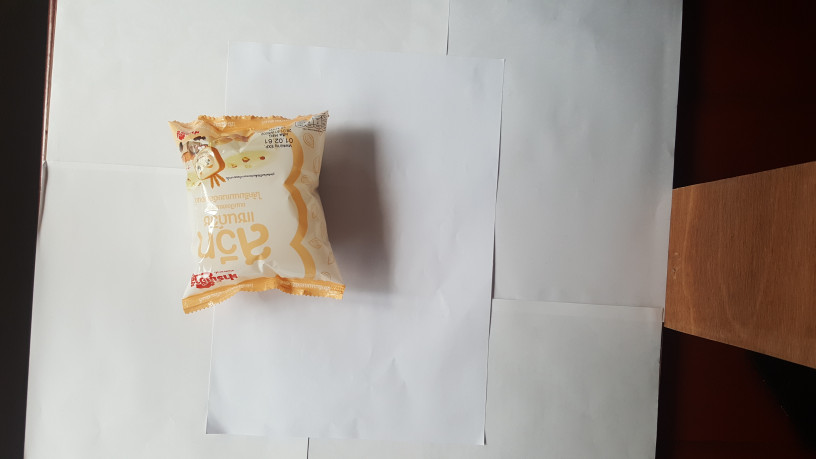farmhouse-sweetsandwich-almond: (163, 102, 353, 323)
